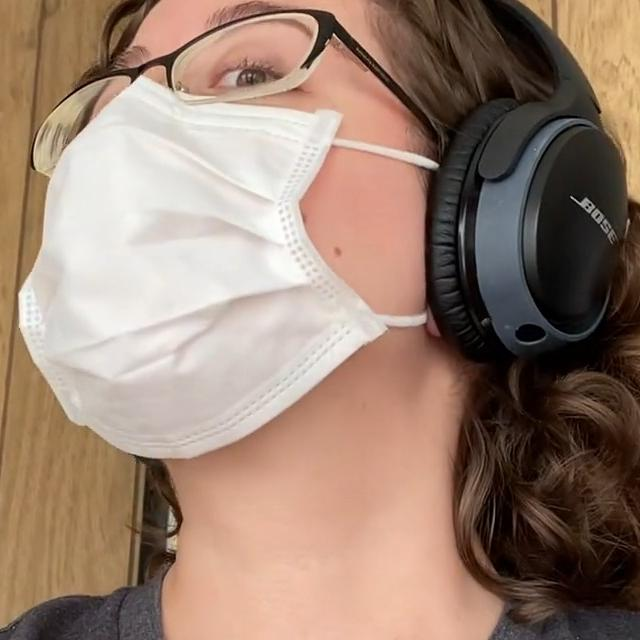Mask: (9, 65, 439, 455)
NO-Hardhat: (114, 0, 598, 107)
Person: (0, 0, 640, 640)
